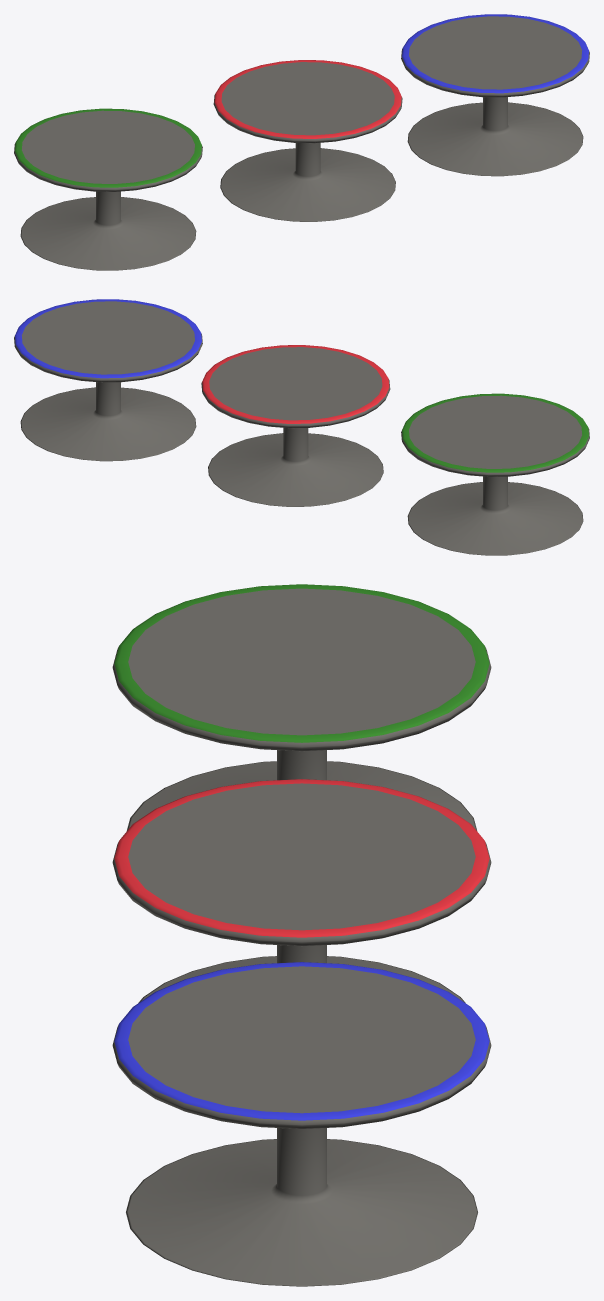
File: TABLES.fbx
3 views of the same model, one above another, from view 1: azimuth 30°, elevation 25°; view 2: azimuth 150°, elevation 25°; view 3: azimuth 270°, elevation 25° (orthographic). The views are drawn at different scales.
Parts seen in each view (by area): view 1: Cylinder.007, Cylinder.009, Cylinder.008; view 2: Cylinder.007, Cylinder.009, Cylinder.008; view 3: Cylinder.009, Cylinder.007, Cylinder.008.
Boxes of the visible parts, left/top/right/bottom form: Cylinder.007: left=14, top=108, right=202, bottom=270; Cylinder.009: left=401, top=14, right=589, bottom=176; Cylinder.008: left=213, top=60, right=402, bottom=221; Cylinder.007: left=401, top=393, right=589, bottom=555; Cylinder.009: left=14, top=299, right=202, bottom=461; Cylinder.008: left=201, top=345, right=390, bottom=506; Cylinder.009: left=112, top=962, right=491, bottom=1286; Cylinder.007: left=112, top=584, right=491, bottom=830; Cylinder.008: left=112, top=779, right=491, bottom=1002.
Bounding box in the file's own units: 324 × 48.45 × 96.3.
